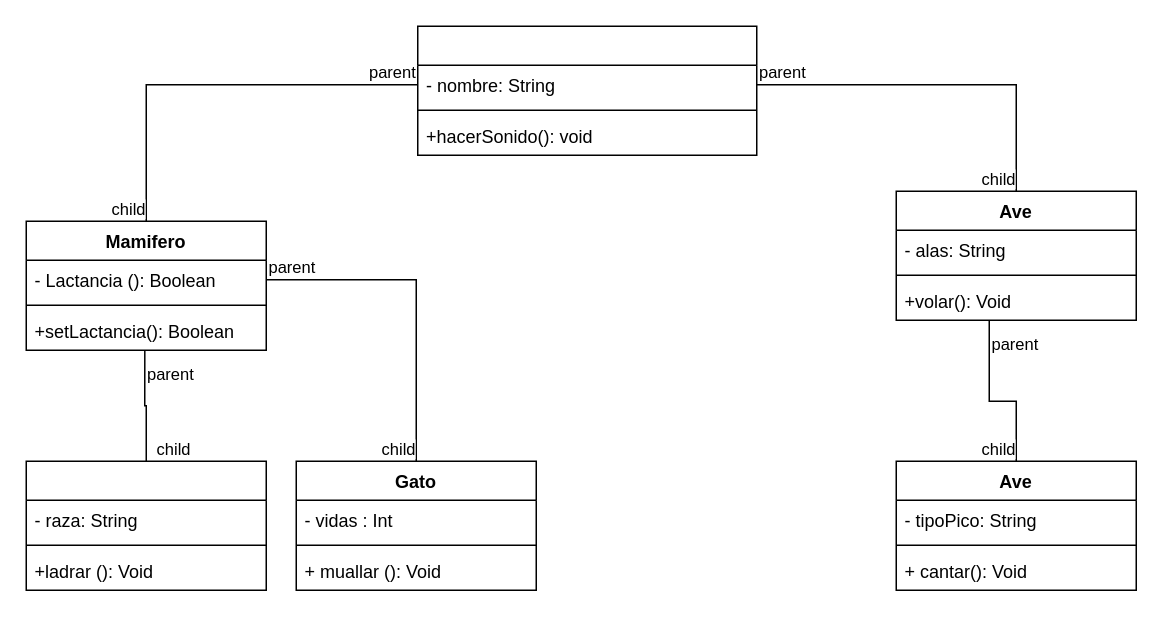
Image size: 1163x621. Some labels were removed from this diagram. The box of each missing label's shape, as (x1, y1, x2, y2) in pixels:
Animal: (416, 25, 757, 155)
Perro: (25, 460, 266, 590)
